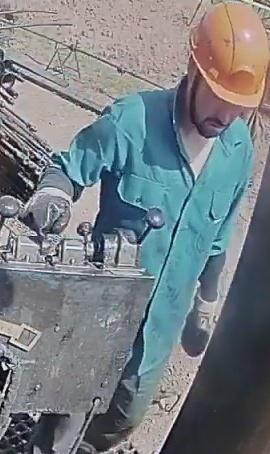gloves: (18, 173, 74, 242), (180, 285, 221, 358)
helmet: (188, 2, 269, 108)
vest: (110, 90, 255, 351)
